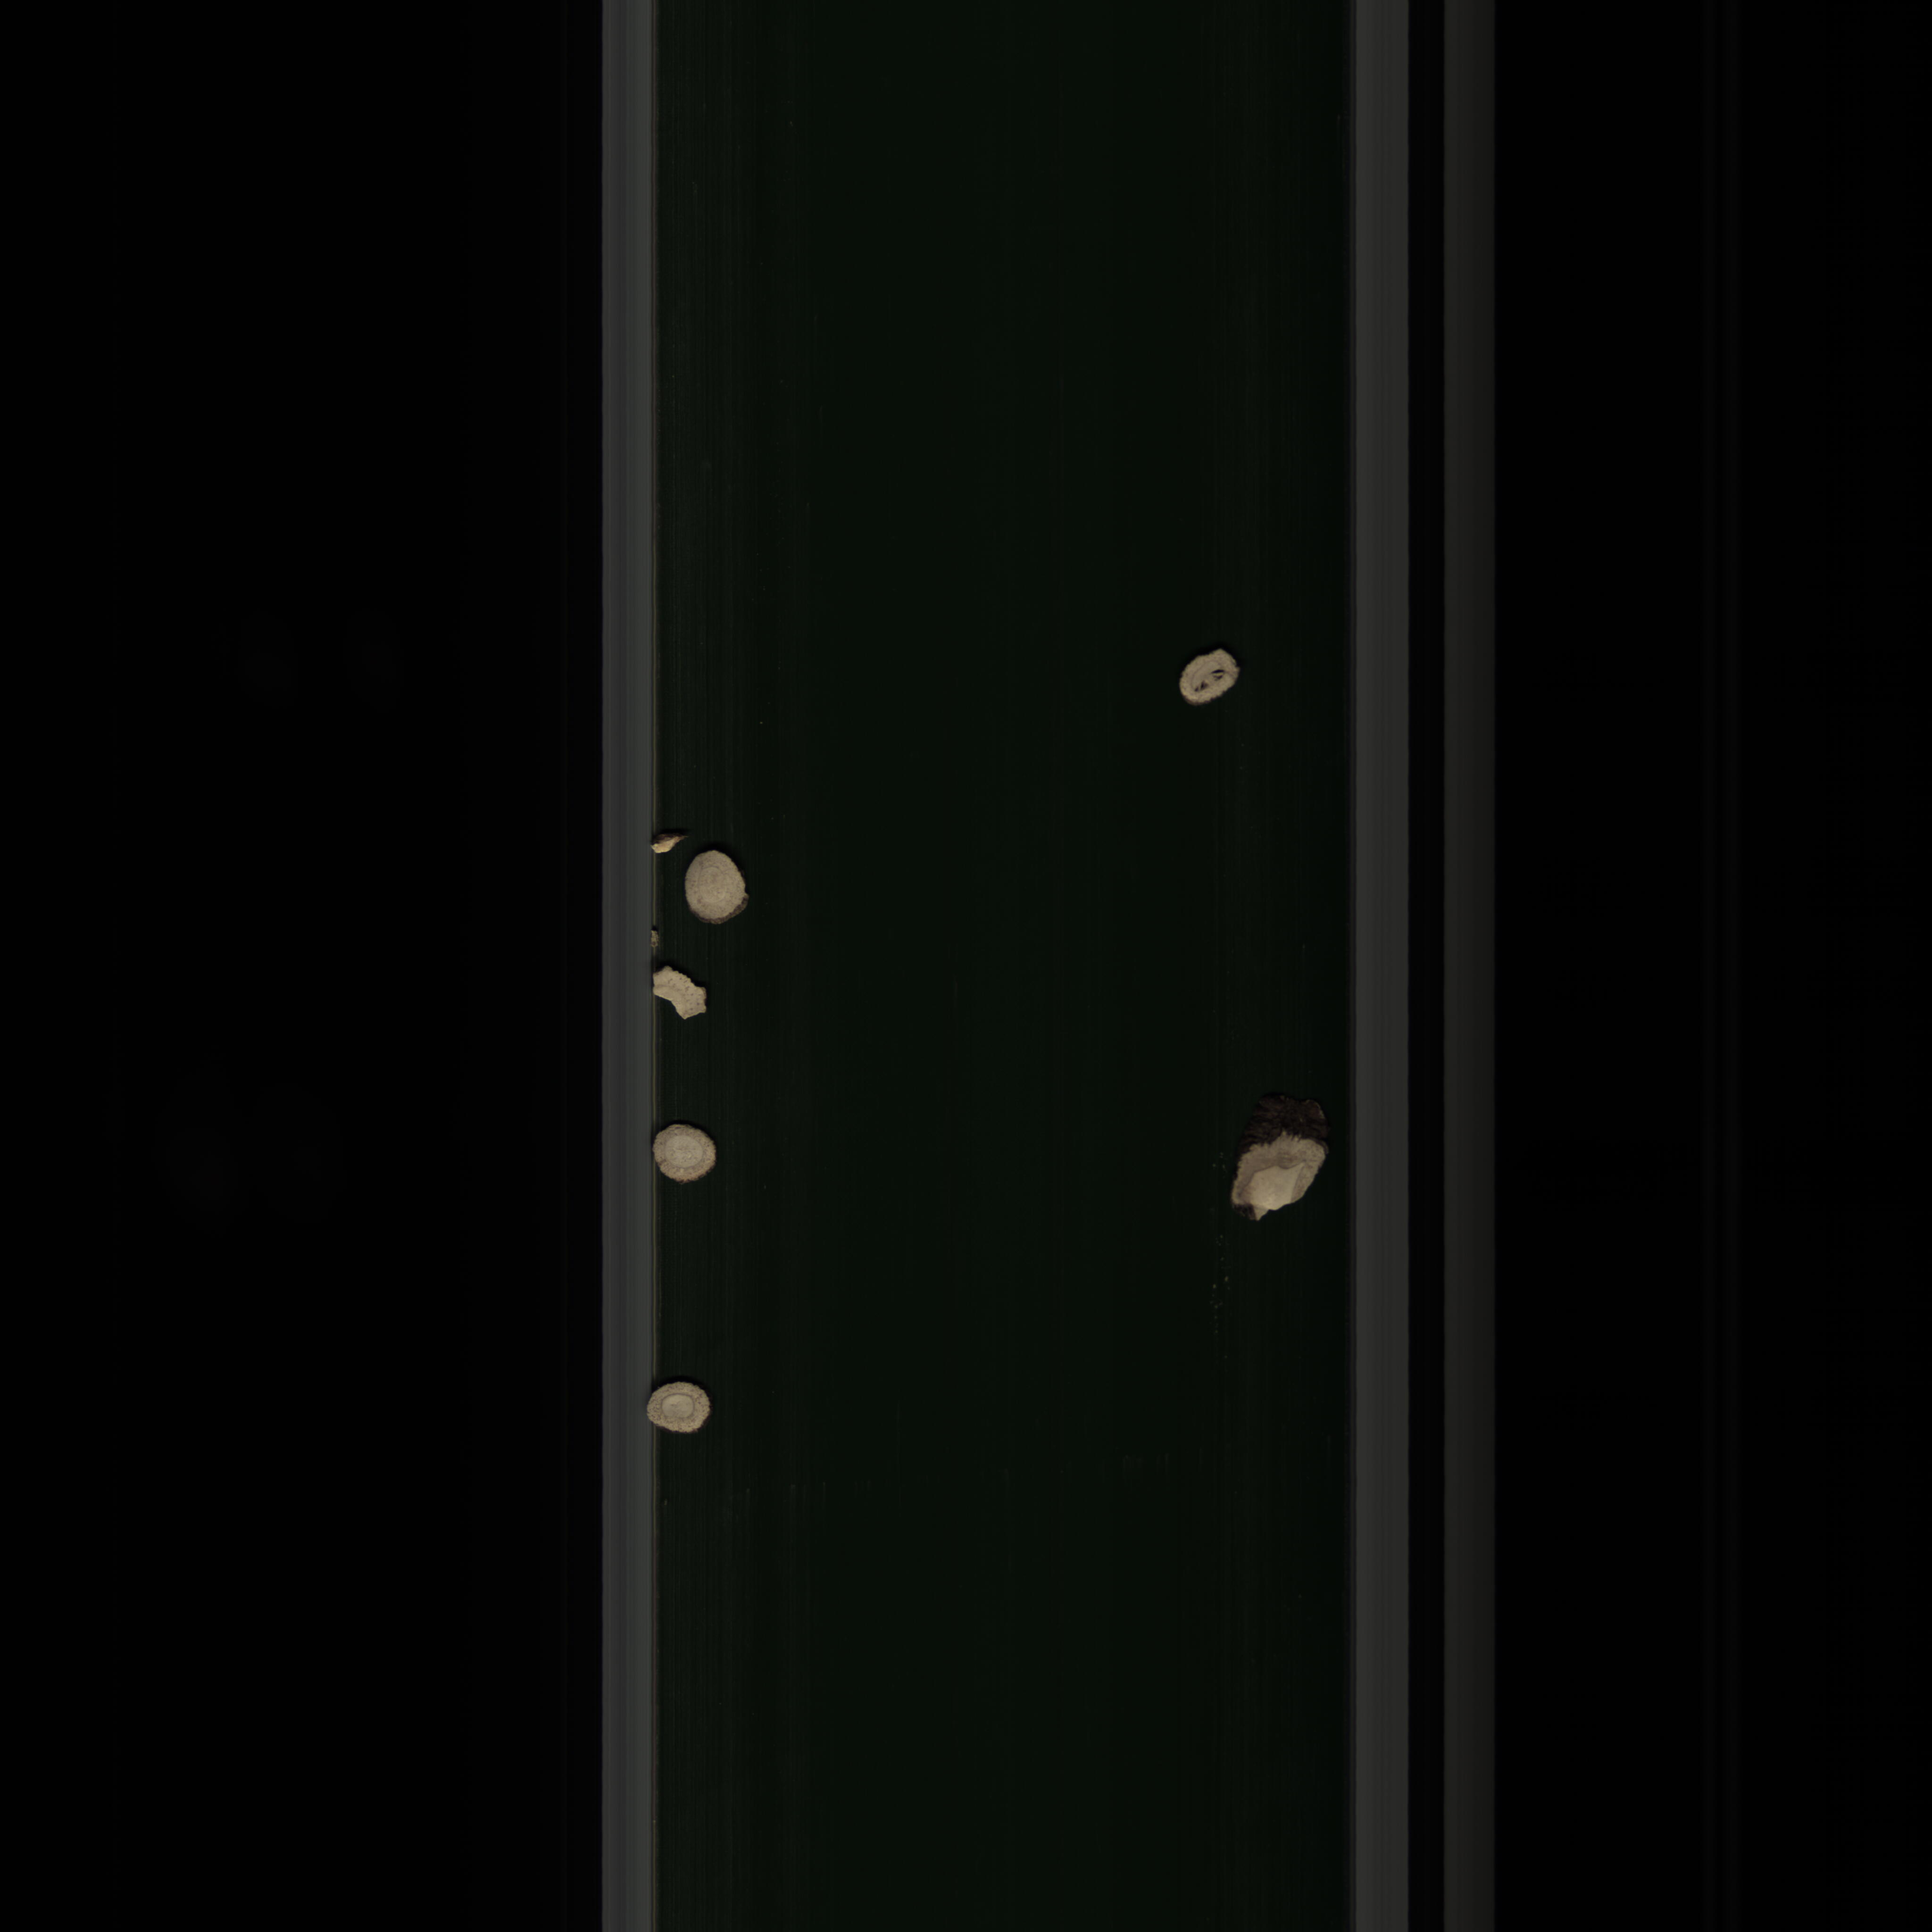debris: (1230, 1127, 1334, 1228), (649, 952, 715, 1028)
hole: (1173, 644, 1247, 717)
